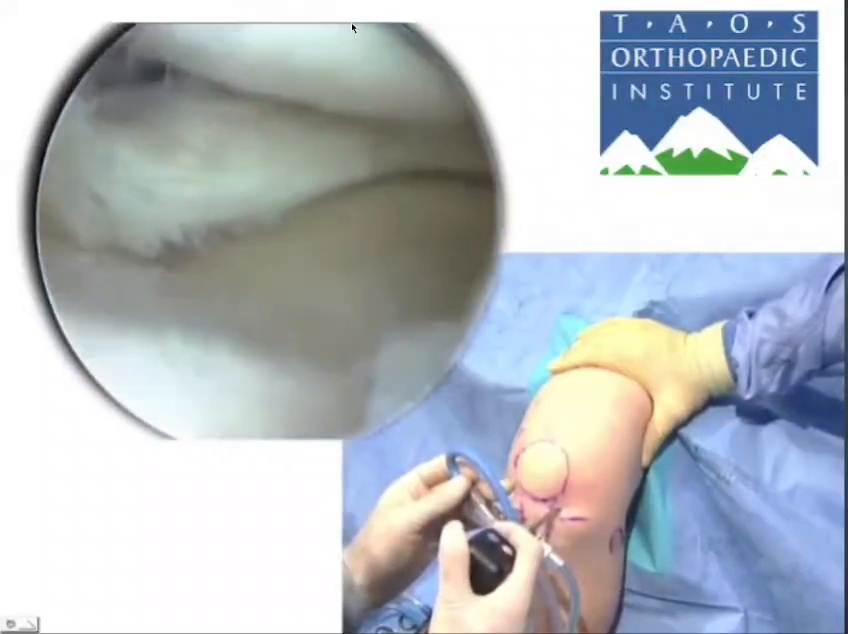arthroscope: (49, 234, 424, 462)
probe: (39, 87, 371, 261), (126, 0, 424, 124)
